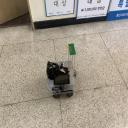cart: (46, 60, 76, 99)
